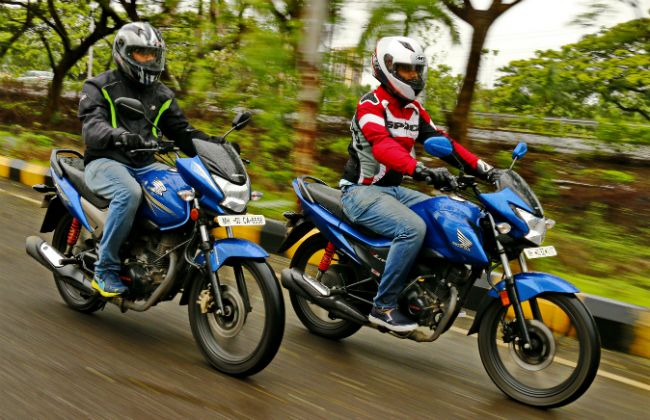helmet: (113, 24, 169, 85), (371, 33, 427, 94)
